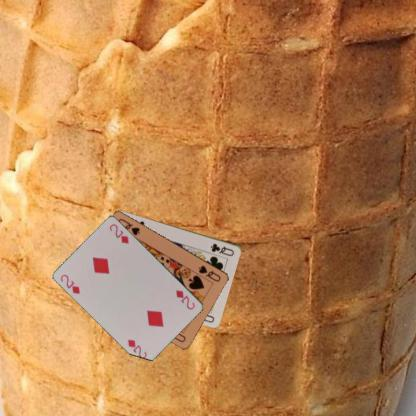2d: (173, 287, 196, 311), (58, 272, 82, 295)
Qc: (209, 241, 235, 257)
Qs: (196, 263, 222, 283)
